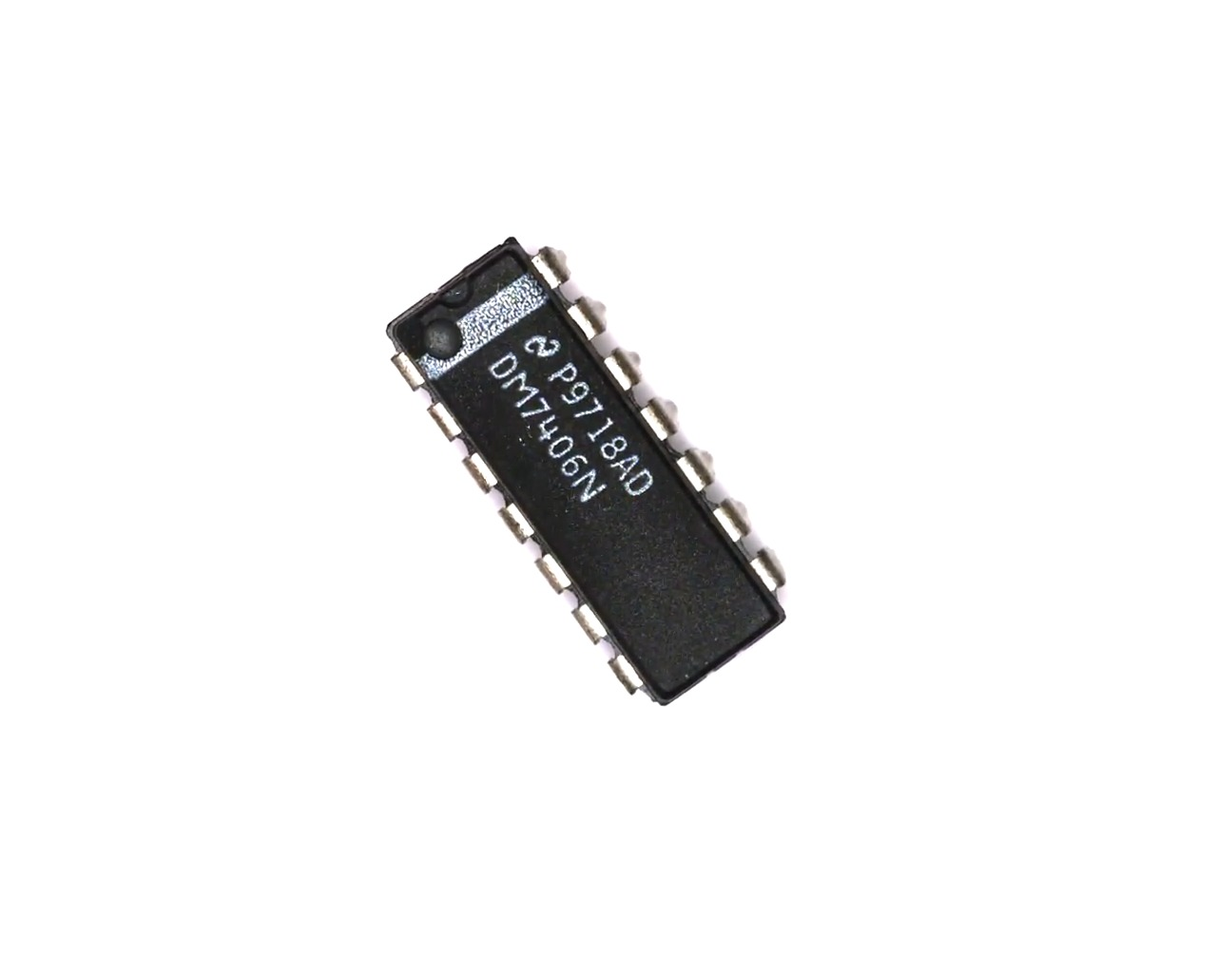IC: (355, 200, 827, 730)
notch: (432, 270, 479, 312)
